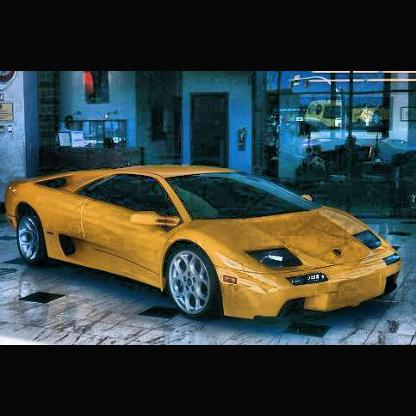Lamborghini Diablo Coupe 2001: (5, 165, 403, 322)
